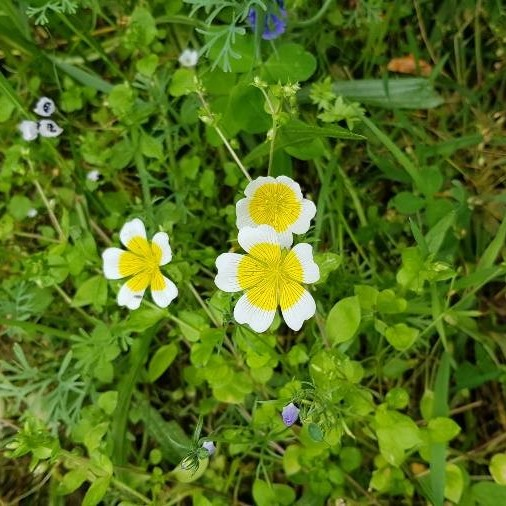obstacle: (34, 82, 434, 481)
